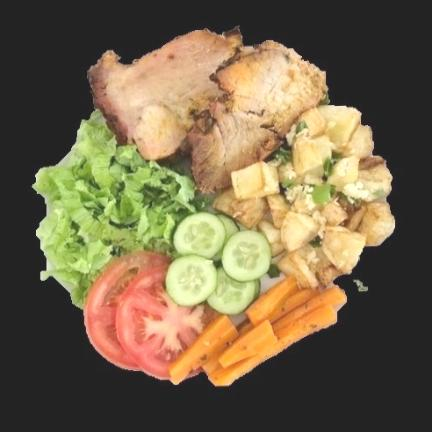carrot: (169, 277, 346, 385)
cucumber: (166, 212, 271, 315)
meat: (89, 30, 327, 193)
potato: (215, 106, 395, 285)
salad: (34, 111, 206, 307)
tomato: (84, 251, 215, 379)
